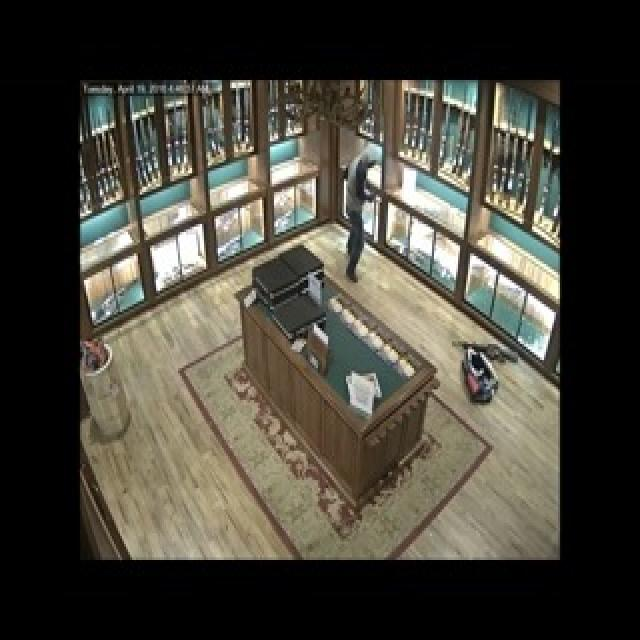thief: (343, 146, 378, 274)
